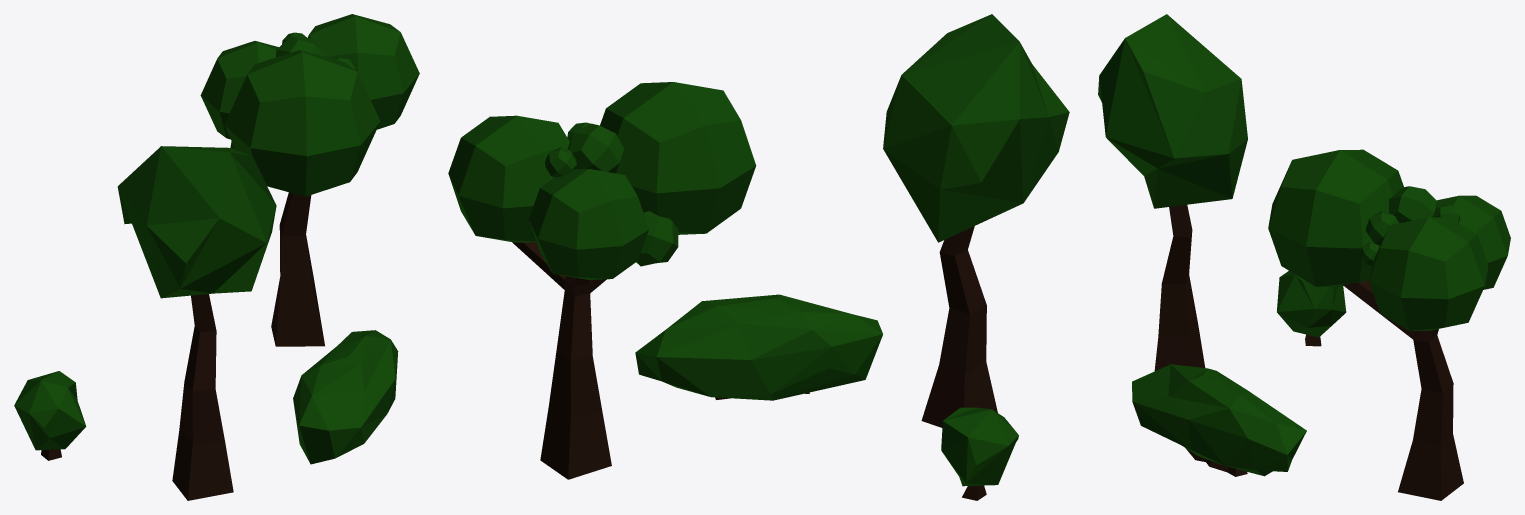
Rendered from low_poly_tree_shrub_group.fbx.
3 views of the same model, side by side, from view 1: azimuth 30°, elevation 25°; view 2: azimuth 150°, elevation 25°; view 3: azimuth 270°, elevation 25° (orthographic). The views are drawn at different scales.
Parts seen in each view (by area): view 1: GeoSphere003, Box014, GeoSphere005, Box022, Box013, Box012, GeoSphere004, Box015, Box016; view 2: GeoSphere003, GeoSphere005, Box014, Box013, Box015, Box012, Box022, GeoSphere004, Box016, Box017, Box018; view 3: GeoSphere003, Box014, GeoSphere005, Box013, Box012, Box022, GeoSphere004, Box015, Box016, Box019.
Boxes of the visible parts, x1,y1,x2,y2 form: GeoSphere003: [117, 146, 276, 298]; Box014: [224, 50, 380, 196]; GeoSphere005: [293, 330, 398, 464]; Box022: [172, 294, 233, 500]; Box013: [307, 14, 419, 129]; Box012: [271, 192, 324, 346]; GeoSphere004: [14, 371, 86, 450]; Box015: [200, 41, 278, 139]; Box016: [276, 36, 325, 57]; GeoSphere003: [883, 14, 1069, 242]; GeoSphere005: [635, 294, 882, 400]; Box014: [600, 82, 756, 234]; Box013: [448, 115, 569, 242]; Box015: [529, 169, 648, 279]; Box012: [512, 242, 611, 479]; Box022: [921, 226, 997, 427]; GeoSphere004: [941, 407, 1018, 486]; Box016: [568, 123, 623, 173]; Box017: [636, 211, 678, 266]; Box018: [545, 147, 576, 177]; GeoSphere003: [1098, 14, 1247, 208]; Box014: [1268, 149, 1403, 286]; GeoSphere005: [1132, 364, 1306, 476]; Box013: [1369, 217, 1488, 330]; Box012: [1343, 280, 1463, 500]; Box022: [1154, 204, 1205, 370]; GeoSphere004: [1277, 271, 1346, 337]; Box015: [1436, 195, 1510, 289]; Box016: [1389, 186, 1436, 223]; Box019: [1365, 211, 1398, 245].
Bounding box in the file's own units: 66.2 × 50.79 × 54.33.
